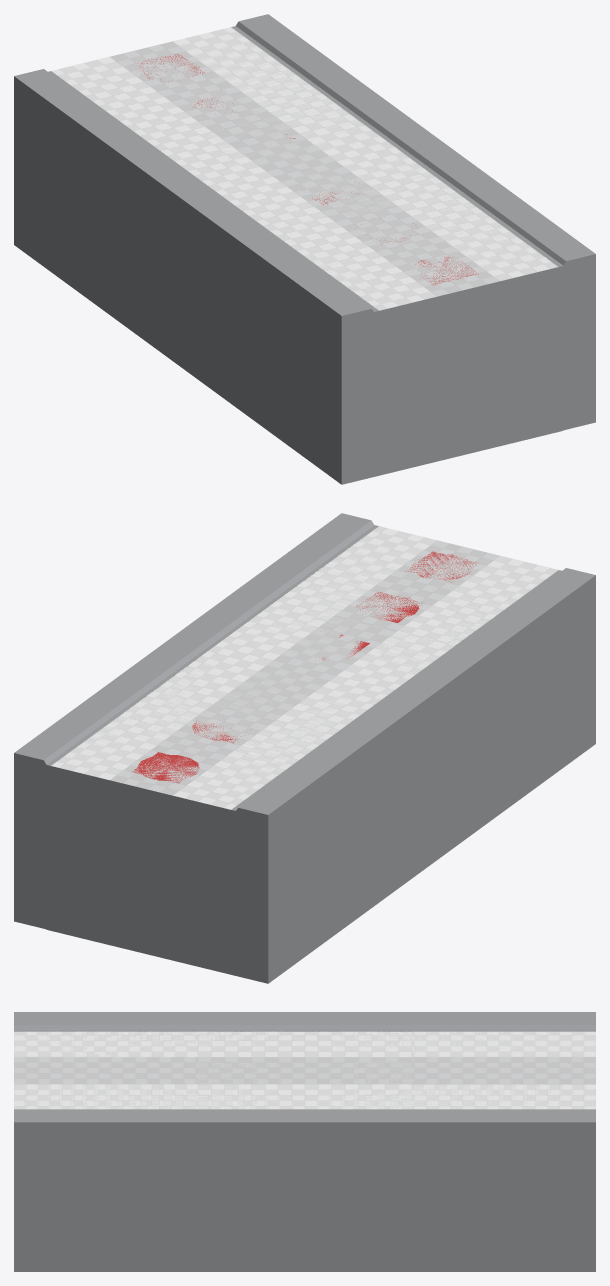
The model's file is RunnerPlatform_V3.fbx.
The picture shows the model from 3 angles, top to bottom: view 1: azimuth 30°, elevation 25°; view 2: azimuth 150°, elevation 25°; view 3: azimuth 270°, elevation 25°; orthographic projection. The views are drawn at different scales.
Visible parts, largest first — view 1: RunnerPlatform_Ext_R, RunnerPlatform_V2_R, RunnerPlatform_V2_M, RunnerPlatform_V2_L, RunnerPlatform_V2_S2, RunnerPlatform_Ext_L, RunnerPlatform_V2_S1; view 2: RunnerPlatform_Ext_R, RunnerPlatform_V2_S1, RunnerPlatform_V2_M, RunnerPlatform_V2_R, RunnerPlatform_V2_L, RunnerPlatform_Ext_L, RunnerPlatform_V2_S2, Cylinder1, Cube3, Cylinder3; view 3: RunnerPlatform_Ext_L, RunnerPlatform_V2_M, RunnerPlatform_V2_S2, RunnerPlatform_V2_S1, RunnerPlatform_V2_L, RunnerPlatform_V2_R, RunnerPlatform_Ext_R.
Part boxes in pixels (bbox=[...]): RunnerPlatform_Ext_R: bbox=[14, 69, 374, 484]; RunnerPlatform_V2_R: bbox=[48, 57, 437, 476]; RunnerPlatform_V2_M: bbox=[110, 41, 499, 461]; RunnerPlatform_V2_L: bbox=[172, 26, 563, 446]; RunnerPlatform_V2_S2: bbox=[173, 26, 452, 475]; RunnerPlatform_Ext_L: bbox=[236, 14, 595, 430]; RunnerPlatform_V2_S1: bbox=[50, 57, 563, 430]; RunnerPlatform_Ext_R: bbox=[235, 568, 595, 983]; RunnerPlatform_V2_S1: bbox=[151, 525, 458, 975]; RunnerPlatform_V2_M: bbox=[110, 540, 499, 960]; RunnerPlatform_V2_R: bbox=[172, 556, 561, 975]; RunnerPlatform_V2_L: bbox=[46, 525, 437, 945]; RunnerPlatform_Ext_L: bbox=[14, 513, 373, 929]; RunnerPlatform_V2_S2: bbox=[46, 556, 560, 944]; Cylinder1: bbox=[137, 721, 235, 780]; Cube3: bbox=[365, 551, 476, 622]; Cylinder3: bbox=[356, 554, 470, 620]; RunnerPlatform_Ext_L: bbox=[14, 1109, 595, 1271]; RunnerPlatform_V2_M: bbox=[14, 1057, 595, 1084]; RunnerPlatform_V2_S2: bbox=[14, 1029, 595, 1108]; RunnerPlatform_V2_S1: bbox=[14, 1029, 595, 1109]; RunnerPlatform_V2_L: bbox=[14, 1084, 595, 1109]; RunnerPlatform_V2_R: bbox=[14, 1029, 595, 1056]; RunnerPlatform_Ext_R: bbox=[14, 1012, 595, 1029].
Size of the model in its own units: 535 by 343 by 1196.
